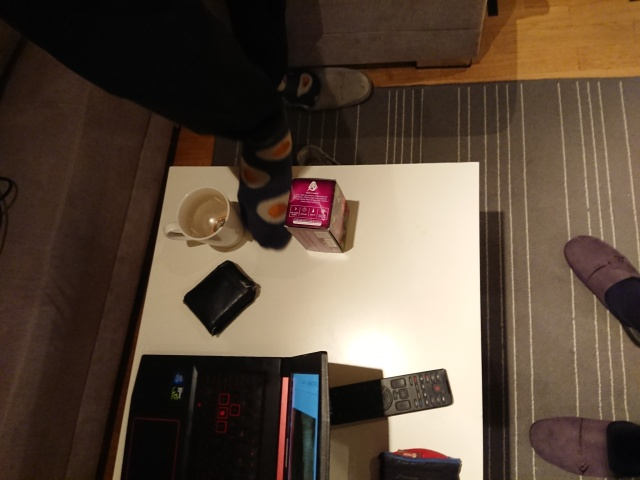Franck Black Currant Tea 60g: (281, 175, 352, 255)
